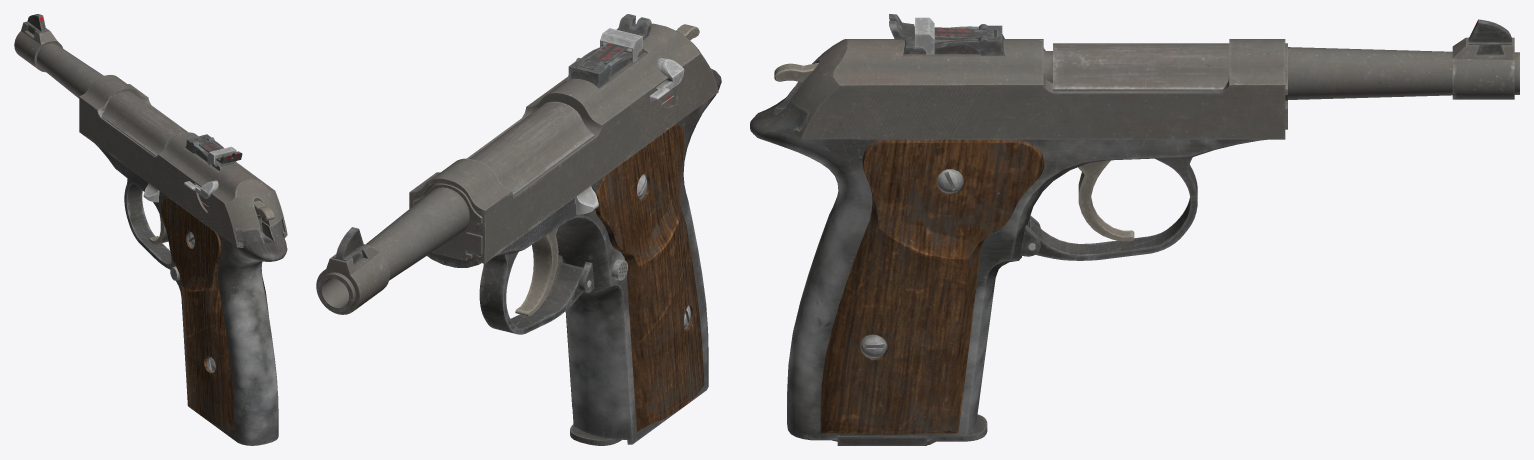
Rendered from qiming.glb.
The picture shows the model from 3 angles, left to right: view 1: azimuth 30°, elevation 25°; view 2: azimuth 150°, elevation 25°; view 3: azimuth 270°, elevation 25°; orthographic projection. The views are drawn at different scales.
Visible parts, largest first — view 1: body, slide, hammer; view 2: body, slide, trigger, magazine; view 3: body, slide, magazine, trigger.
Part boxes in pixels (x1,y1,x2,y2): body: (14,14,287,445); slide: (79,74,287,247); hammer: (253,200,274,236); body: (316,68,721,444); slide: (409,14,718,263); trigger: (515,227,558,316); magazine: (570,424,621,445); body: (750,19,1519,440); slide: (791,14,1285,139); magazine: (832,414,987,445); trigger: (1078,160,1134,241).
Bounding box in the file's own units: 0.0318 × 0.1307 × 0.2219.
1 material, 1 textured.
